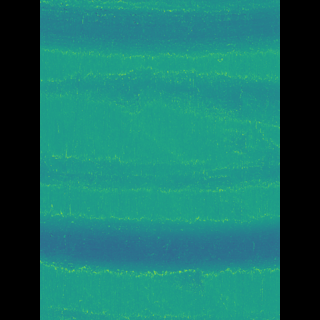Loch: (69, 205, 251, 277), (69, 65, 250, 126), (69, 0, 250, 59), (68, 152, 249, 189)
